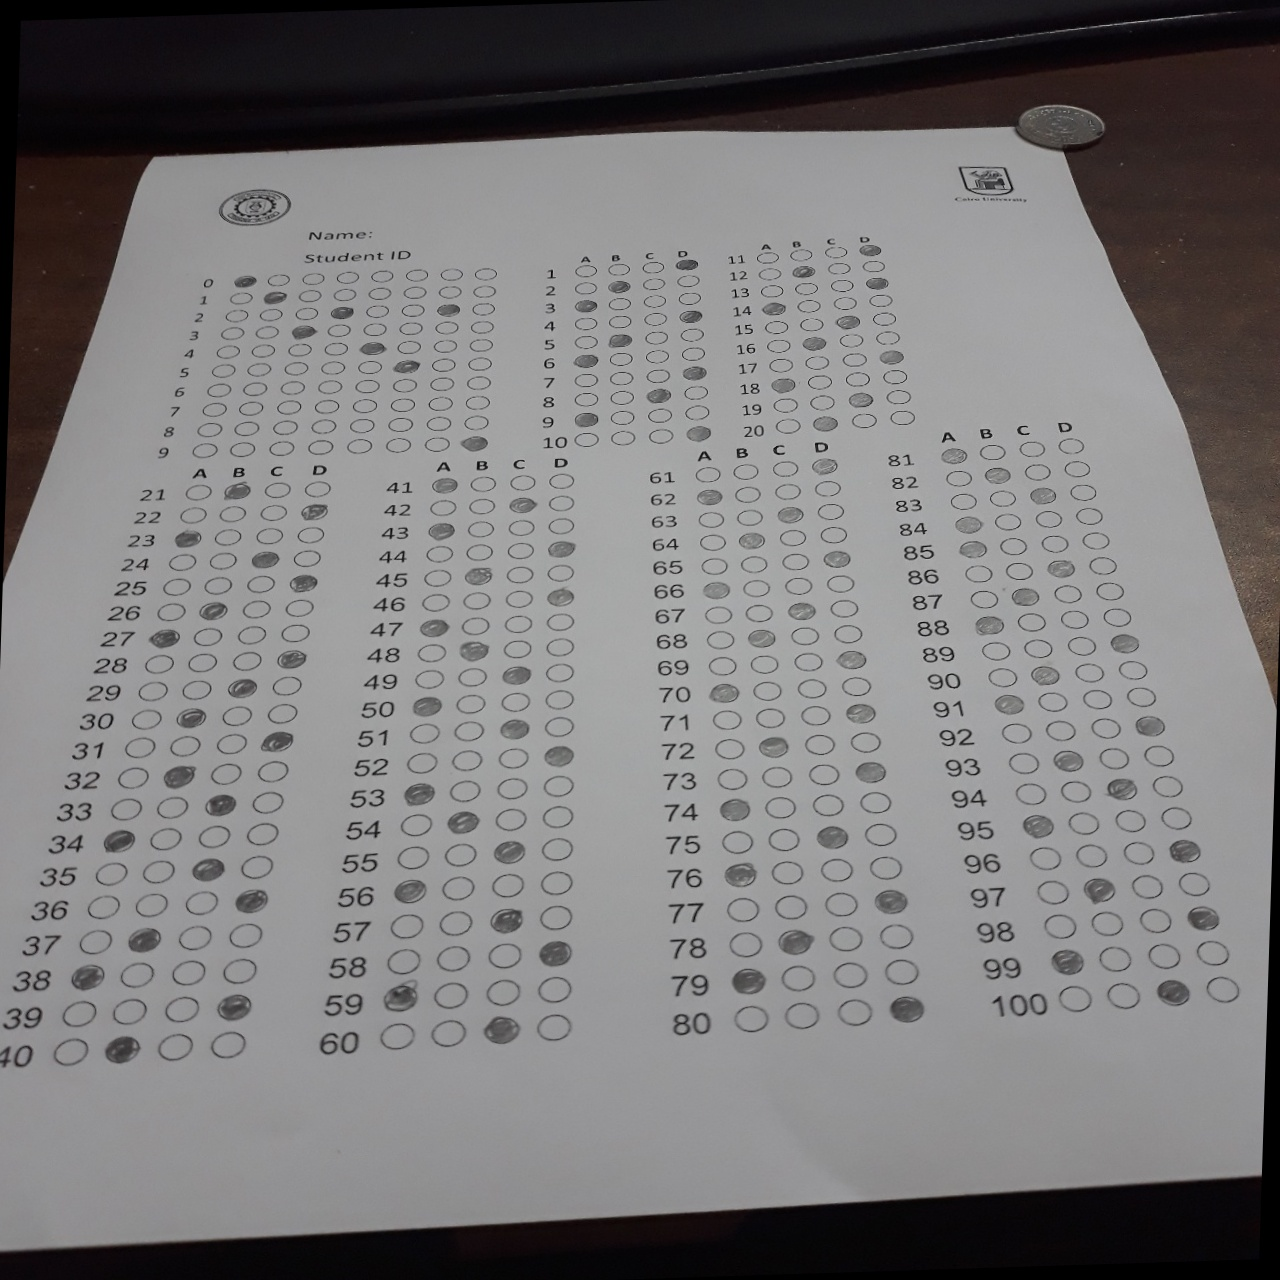not-c: (1137, 906, 1175, 937), (1043, 911, 1081, 941), (1054, 983, 1092, 1013), (1129, 872, 1167, 901), (828, 924, 865, 953), (1103, 980, 1141, 1009), (1095, 944, 1132, 973), (1028, 843, 1065, 872), (1114, 805, 1151, 835), (162, 995, 200, 1023), (156, 1032, 195, 1060), (377, 1022, 416, 1050), (441, 874, 479, 903), (727, 930, 765, 958), (877, 921, 915, 949), (1204, 974, 1242, 1002), (832, 959, 869, 988), (1194, 939, 1231, 968), (61, 999, 98, 1027), (430, 1017, 468, 1046), (386, 947, 423, 975), (389, 912, 427, 940), (437, 908, 475, 937), (395, 843, 433, 871), (883, 958, 920, 986), (731, 1005, 769, 1033), (782, 1001, 819, 1029), (836, 998, 873, 1026), (1090, 908, 1128, 937), (1035, 878, 1073, 906), (1071, 840, 1109, 869), (1118, 837, 1156, 865), (1157, 803, 1194, 831), (1064, 808, 1102, 836), (52, 1039, 90, 1065), (207, 1030, 246, 1057), (535, 1013, 573, 1040), (535, 976, 573, 1003), (537, 903, 576, 930), (538, 870, 577, 897), (441, 840, 479, 867), (1176, 869, 1214, 896), (779, 964, 816, 992), (1145, 941, 1182, 969), (113, 998, 150, 1024), (484, 978, 522, 1005), (433, 982, 470, 1009), (434, 945, 471, 972), (486, 941, 524, 968), (490, 871, 527, 898), (539, 836, 577, 863), (539, 803, 577, 830), (492, 806, 530, 833), (540, 772, 576, 799), (863, 821, 898, 847), (1013, 779, 1048, 806), (1089, 713, 1124, 740), (1000, 719, 1035, 745), (447, 777, 483, 803), (495, 744, 531, 770), (184, 890, 219, 915), (179, 924, 215, 949), (229, 922, 264, 948), (223, 958, 258, 983), (172, 959, 207, 985), (399, 811, 434, 837), (404, 749, 440, 775), (495, 775, 530, 801), (719, 829, 754, 855), (768, 859, 803, 885), (1058, 777, 1094, 803), (1096, 744, 1131, 770), (1007, 748, 1042, 774), (1149, 770, 1184, 796), (1044, 716, 1080, 742), (134, 892, 170, 917), (87, 894, 123, 919), (79, 928, 115, 953), (1035, 688, 1071, 713), (821, 856, 855, 881), (726, 896, 760, 921), (1141, 742, 1175, 768), (824, 891, 859, 915), (246, 822, 280, 846), (121, 962, 155, 987), (543, 713, 577, 737), (543, 686, 577, 710), (869, 855, 903, 879), (774, 894, 808, 919), (157, 795, 190, 819), (409, 720, 442, 744), (95, 862, 129, 885), (142, 859, 176, 883), (240, 855, 274, 878), (451, 719, 485, 742), (452, 692, 486, 715), (251, 790, 284, 813), (150, 826, 183, 850), (763, 795, 796, 818), (197, 825, 231, 847), (712, 736, 745, 758), (806, 762, 840, 784), (111, 797, 143, 821), (455, 665, 486, 688), (503, 636, 535, 660), (804, 733, 836, 756), (859, 790, 891, 813), (499, 689, 532, 712), (543, 661, 576, 683), (760, 764, 792, 787), (847, 730, 880, 753), (767, 828, 799, 850), (1087, 554, 1121, 576), (1080, 530, 1114, 551), (1039, 532, 1073, 553), (998, 536, 1032, 557), (990, 510, 1024, 531), (942, 468, 976, 489), (271, 675, 302, 697), (131, 708, 163, 730), (211, 762, 243, 784), (414, 668, 445, 690), (544, 635, 576, 658), (416, 641, 448, 663), (715, 767, 747, 789), (1095, 579, 1126, 601), (257, 761, 290, 782), (1126, 685, 1159, 706), (1117, 660, 1150, 681), (1073, 661, 1105, 682), (1101, 606, 1133, 627), (1053, 583, 1085, 604), (967, 588, 1000, 610), (1002, 560, 1035, 581), (1054, 435, 1087, 456), (1016, 436, 1049, 457), (1022, 461, 1055, 482), (976, 441, 1009, 462), (986, 667, 1020, 687), (1032, 509, 1065, 529), (1065, 483, 1099, 503), (222, 704, 253, 726), (170, 735, 202, 756), (217, 731, 248, 753), (118, 765, 150, 787), (544, 561, 576, 583), (799, 704, 831, 726), (755, 706, 787, 727), (712, 709, 743, 730), (812, 794, 844, 815), (980, 639, 1012, 660), (1021, 636, 1053, 658), (1065, 635, 1097, 656), (1058, 608, 1090, 629), (1015, 611, 1047, 632), (1061, 458, 1092, 479), (986, 486, 1017, 508), (1081, 689, 1114, 709), (962, 564, 995, 584), (1074, 505, 1107, 525), (452, 749, 482, 771), (125, 736, 156, 757), (544, 611, 574, 632), (461, 590, 492, 610), (948, 491, 980, 511), (267, 703, 297, 724), (423, 566, 452, 587), (547, 469, 577, 490), (459, 617, 490, 636), (503, 613, 533, 633), (504, 588, 535, 608), (420, 592, 450, 612), (545, 515, 576, 535), (546, 492, 577, 512), (829, 597, 859, 617), (192, 626, 222, 646), (233, 651, 263, 670), (188, 651, 217, 670), (145, 653, 175, 673), (137, 681, 166, 701), (182, 680, 211, 700), (505, 563, 535, 583), (464, 542, 493, 561), (468, 474, 497, 493), (743, 602, 772, 622), (703, 604, 733, 624), (704, 629, 734, 649), (203, 576, 233, 594), (162, 577, 192, 595), (237, 625, 267, 644), (506, 540, 535, 560), (424, 543, 452, 563), (467, 519, 495, 539), (508, 516, 536, 536), (697, 508, 726, 527), (790, 625, 818, 645), (833, 624, 862, 644), (707, 655, 735, 675), (753, 680, 781, 700), (797, 678, 825, 697), (286, 598, 315, 617), (241, 599, 271, 618), (467, 496, 496, 515), (428, 497, 457, 516), (607, 427, 636, 445), (646, 425, 675, 444), (607, 407, 636, 425), (749, 654, 778, 673), (794, 651, 821, 670), (218, 505, 248, 523), (156, 602, 186, 620), (215, 527, 243, 546), (281, 622, 309, 641), (735, 508, 763, 526), (700, 556, 728, 574), (740, 554, 768, 573), (781, 552, 809, 571), (783, 576, 811, 594), (742, 578, 770, 597), (840, 676, 869, 695), (259, 503, 288, 520), (263, 481, 292, 498), (304, 481, 333, 498), (292, 549, 321, 566), (209, 551, 238, 568), (571, 430, 600, 448), (644, 406, 673, 423), (681, 383, 710, 401), (779, 527, 806, 546), (297, 525, 325, 543), (168, 552, 196, 570), (247, 576, 275, 593), (819, 525, 847, 543), (697, 532, 726, 550), (826, 574, 855, 592), (508, 474, 537, 490), (191, 441, 218, 458), (205, 381, 232, 399), (185, 483, 212, 501), (644, 346, 670, 363), (809, 393, 836, 410), (849, 411, 876, 429), (884, 388, 911, 406), (731, 462, 758, 479), (772, 459, 799, 477), (772, 482, 799, 499), (734, 484, 761, 502), (256, 527, 284, 544), (683, 403, 712, 420), (640, 258, 666, 275), (817, 503, 843, 520), (282, 359, 309, 375), (241, 380, 268, 396), (197, 421, 224, 437), (181, 506, 207, 523), (644, 367, 670, 383), (573, 372, 600, 388), (573, 334, 600, 350), (806, 373, 833, 389), (888, 409, 915, 425), (774, 417, 801, 434), (813, 479, 840, 496), (210, 362, 238, 377), (840, 350, 869, 366), (425, 415, 451, 431), (316, 377, 342, 394), (280, 379, 306, 395), (247, 360, 273, 376), (220, 325, 246, 341), (227, 290, 253, 306), (680, 345, 706, 361), (679, 325, 704, 341), (607, 314, 633, 331), (694, 467, 720, 483), (384, 437, 411, 452), (311, 418, 338, 434), (200, 402, 227, 417), (644, 329, 670, 345), (642, 311, 669, 326), (678, 290, 704, 305), (838, 331, 865, 346), (768, 356, 795, 372), (803, 354, 830, 369), (881, 369, 908, 384), (430, 375, 455, 392), (428, 395, 452, 411), (287, 341, 312, 358), (294, 305, 319, 321), (259, 306, 284, 322), (239, 399, 264, 415), (874, 329, 903, 343), (463, 414, 489, 429), (424, 435, 450, 450), (388, 416, 414, 431), (324, 341, 349, 356), (352, 397, 377, 413), (349, 417, 375, 433), (307, 438, 333, 454), (268, 440, 294, 455), (272, 418, 298, 434), (275, 399, 301, 414), (256, 324, 281, 339), (234, 420, 260, 435), (216, 343, 241, 359), (608, 389, 634, 404), (573, 316, 599, 332), (644, 293, 669, 308), (607, 297, 633, 312), (573, 280, 599, 295), (573, 261, 599, 277), (606, 260, 632, 275), (764, 319, 790, 334), (872, 309, 898, 325), (608, 370, 635, 384), (765, 338, 792, 352), (772, 397, 799, 411), (437, 284, 462, 299), (474, 265, 498, 280), (471, 284, 496, 299), (402, 284, 427, 299), (367, 285, 392, 300), (399, 320, 423, 335), (435, 319, 459, 334), (469, 318, 493, 333), (467, 355, 491, 370), (467, 375, 491, 390), (430, 356, 455, 372), (358, 359, 382, 374), (355, 377, 380, 393), (314, 399, 339, 414), (251, 342, 275, 358), (231, 441, 256, 456), (224, 308, 248, 324), (608, 350, 633, 366), (392, 377, 417, 392), (346, 438, 372, 452), (573, 392, 599, 406), (799, 316, 825, 331), (845, 372, 871, 386), (336, 268, 360, 284), (370, 267, 394, 282), (404, 266, 428, 281), (438, 265, 462, 280), (471, 300, 495, 315), (465, 394, 489, 409), (321, 359, 345, 374), (333, 288, 358, 302), (400, 302, 424, 316), (363, 321, 388, 335), (327, 324, 352, 338), (469, 336, 493, 350), (755, 250, 779, 264), (266, 273, 290, 287), (300, 271, 324, 285), (365, 304, 388, 318), (397, 339, 421, 353), (433, 338, 456, 352), (392, 397, 415, 411), (757, 266, 781, 280), (869, 292, 892, 306), (826, 261, 851, 274), (642, 277, 666, 290), (676, 274, 700, 287), (789, 248, 812, 261), (824, 245, 847, 258), (862, 259, 885, 272), (760, 284, 783, 297), (794, 282, 817, 295), (833, 297, 857, 309), (797, 299, 821, 312), (830, 278, 853, 290)
taken-c: (483, 1014, 520, 1043), (535, 939, 572, 968), (399, 779, 436, 809), (888, 993, 926, 1022), (103, 1035, 139, 1064), (382, 983, 418, 1013), (488, 906, 524, 935), (444, 806, 481, 836), (538, 741, 574, 770), (498, 715, 535, 744), (1051, 945, 1085, 975), (1050, 745, 1084, 776), (70, 964, 105, 993), (392, 874, 427, 904), (125, 926, 162, 954), (489, 837, 525, 865), (1155, 978, 1191, 1006), (1165, 837, 1201, 865), (1109, 629, 1145, 658), (1081, 876, 1115, 905), (873, 886, 908, 914), (1184, 905, 1220, 932), (1133, 713, 1169, 740), (755, 733, 790, 760), (706, 678, 741, 704), (411, 693, 448, 719), (731, 966, 765, 993), (776, 927, 811, 953), (721, 862, 756, 887), (816, 823, 852, 847), (694, 577, 731, 600), (719, 796, 753, 822), (458, 639, 493, 663), (542, 585, 577, 610), (101, 829, 134, 855), (234, 888, 267, 914), (163, 764, 196, 789), (499, 662, 533, 686), (783, 597, 818, 619), (733, 527, 768, 550), (205, 791, 237, 816), (191, 858, 224, 881), (775, 502, 809, 524), (745, 625, 779, 647), (1008, 583, 1039, 607), (1028, 483, 1058, 508), (1046, 554, 1076, 579), (974, 613, 1006, 636), (955, 536, 988, 558), (992, 694, 1024, 716), (1022, 812, 1055, 835), (218, 994, 248, 1017), (1032, 661, 1062, 685), (979, 462, 1009, 485), (1107, 777, 1137, 801), (817, 549, 852, 568), (853, 760, 886, 781), (839, 703, 874, 722), (463, 565, 496, 585), (417, 618, 450, 638), (263, 730, 293, 751), (833, 651, 867, 669), (425, 520, 457, 540), (505, 495, 537, 515), (429, 474, 461, 493), (567, 409, 599, 429), (694, 485, 726, 505), (173, 529, 203, 550), (198, 599, 227, 620), (277, 648, 306, 669), (151, 628, 181, 649), (938, 445, 971, 464), (546, 538, 577, 558), (176, 708, 204, 729), (953, 516, 983, 535), (229, 678, 257, 697), (645, 384, 670, 403), (606, 332, 632, 350), (605, 277, 631, 295), (461, 433, 486, 451), (300, 502, 326, 520), (290, 573, 316, 591), (573, 352, 598, 370), (231, 270, 256, 288), (811, 456, 837, 474), (681, 363, 707, 381), (685, 424, 710, 442), (678, 306, 703, 324), (434, 300, 459, 318), (359, 339, 384, 356), (261, 287, 287, 305), (224, 482, 250, 499), (673, 254, 697, 272), (573, 297, 598, 314), (253, 551, 278, 568), (293, 322, 319, 339), (760, 301, 787, 316), (392, 359, 416, 375), (328, 302, 353, 319), (789, 264, 815, 279), (801, 336, 828, 350), (835, 314, 860, 328), (847, 392, 873, 406), (812, 416, 838, 430), (769, 377, 795, 392), (878, 349, 903, 363), (856, 243, 881, 256), (866, 275, 892, 288)
